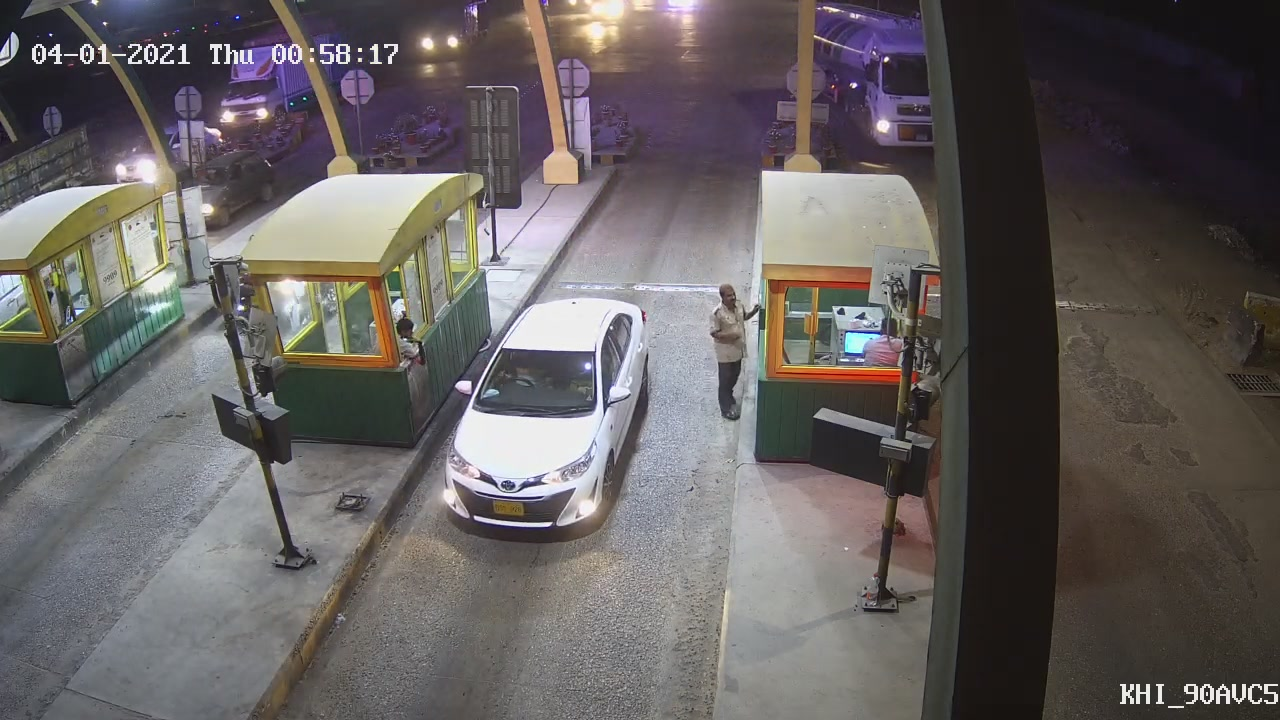F1: (438, 299, 652, 540)
